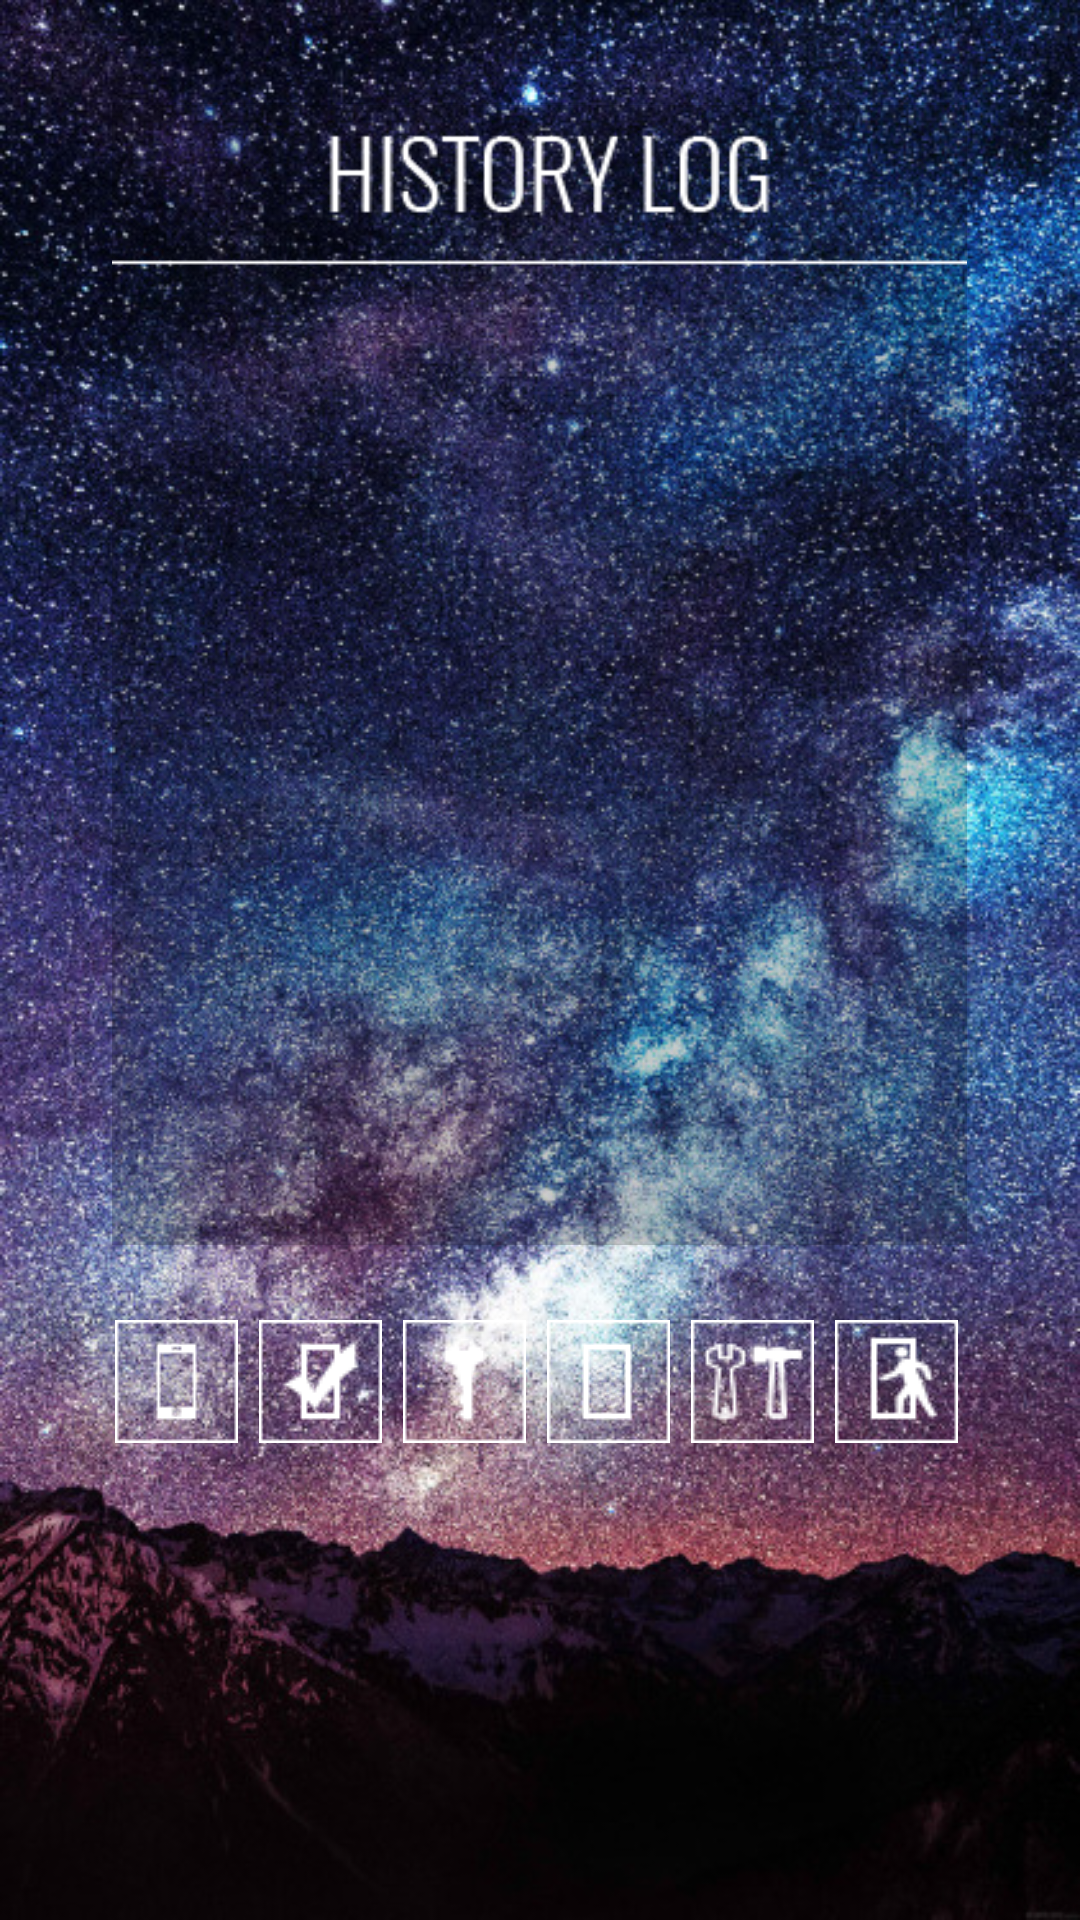

Screen size 1080w x 1920h. Icon name, then its center in pixels as point (x, y):
extwbx: point (896, 1381)
